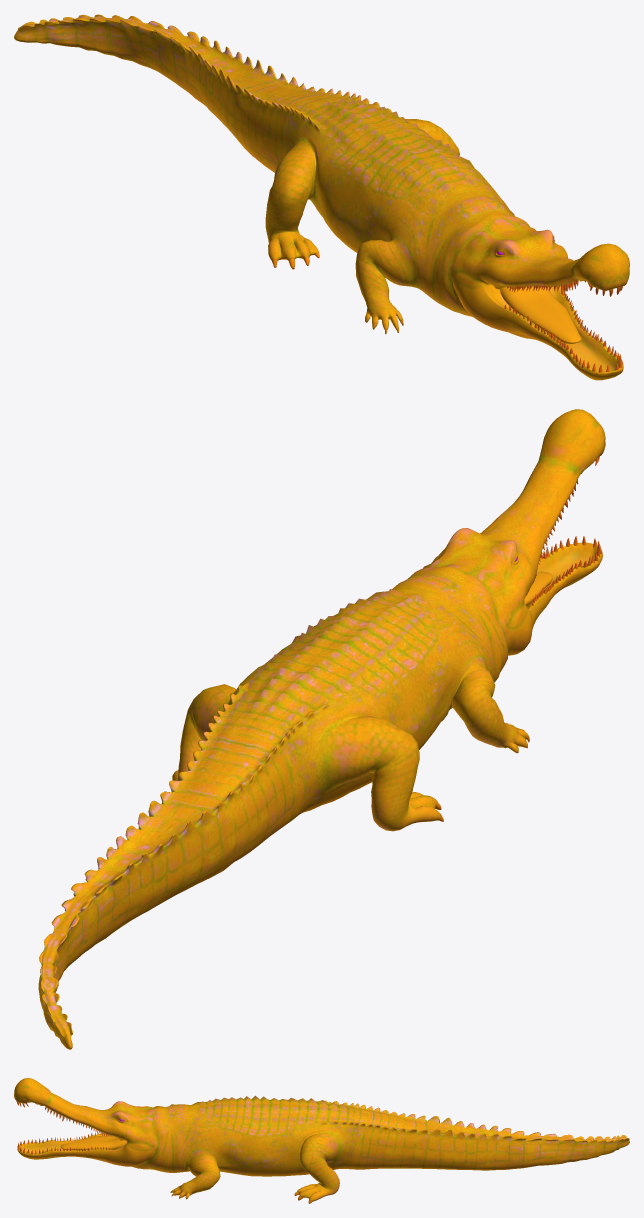
The model's file is Sarcosuchus.glb.
3 renders of one model, top to bottom at view 1: azimuth 30°, elevation 25°; view 2: azimuth 150°, elevation 25°; view 3: azimuth 270°, elevation 25°, orthographic. The views are drawn at different scales.
Visible parts, largest first — view 1: sarcosuchus.1; view 2: sarcosuchus.1; view 3: sarcosuchus.1.
Boxes of the visible parts, box(x1,y1,x2,y2) form: sarcosuchus.1: box(14, 14, 629, 380); sarcosuchus.1: box(38, 409, 605, 1049); sarcosuchus.1: box(14, 1078, 629, 1203).
Size of the model in its own units: 0.1468 by 0.1085 by 0.6298.
1 material, 1 textured.
